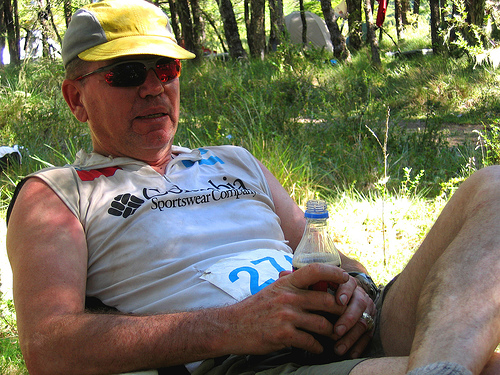without_mask: (66, 20, 205, 160)
